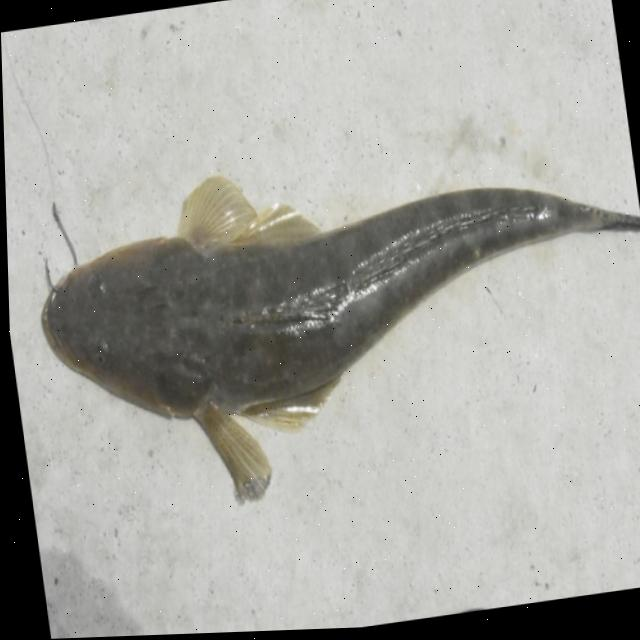Flathead: (16, 106, 640, 533)
